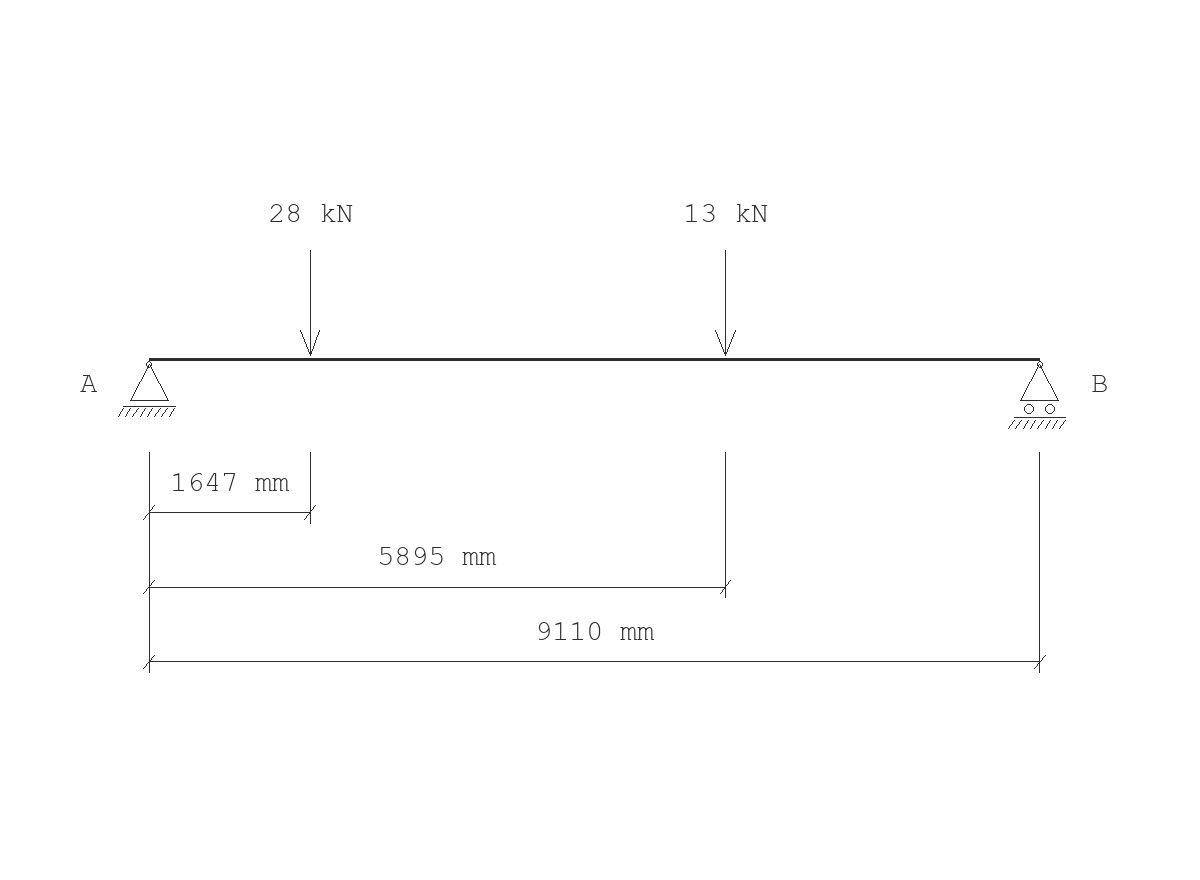pin_support: (118, 361, 176, 417)
point_load: (715, 250, 736, 356), (300, 250, 320, 356)
roller_support: (1008, 361, 1066, 429)
